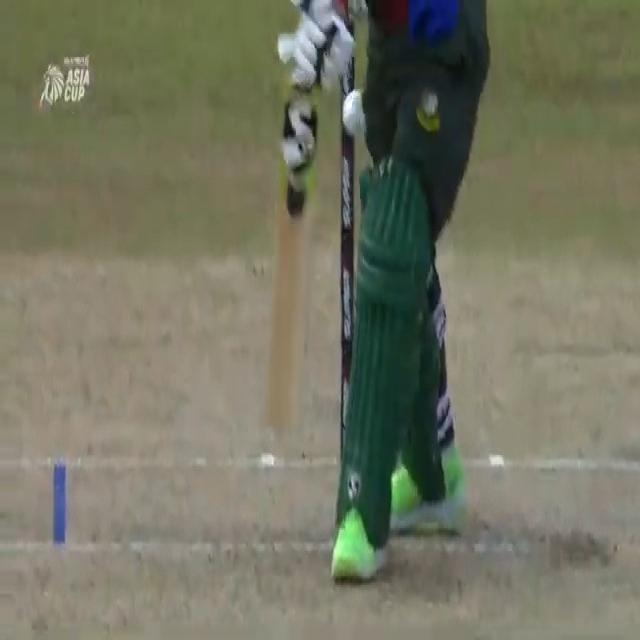Cricket ball: (342, 84, 368, 138)
